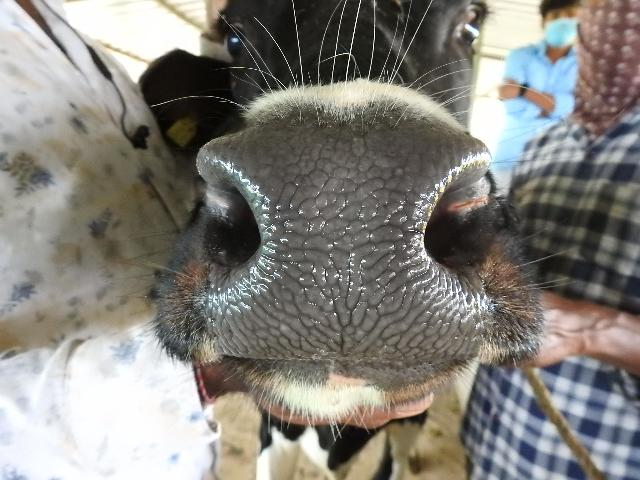Muzzle: (230, 142, 454, 352)
